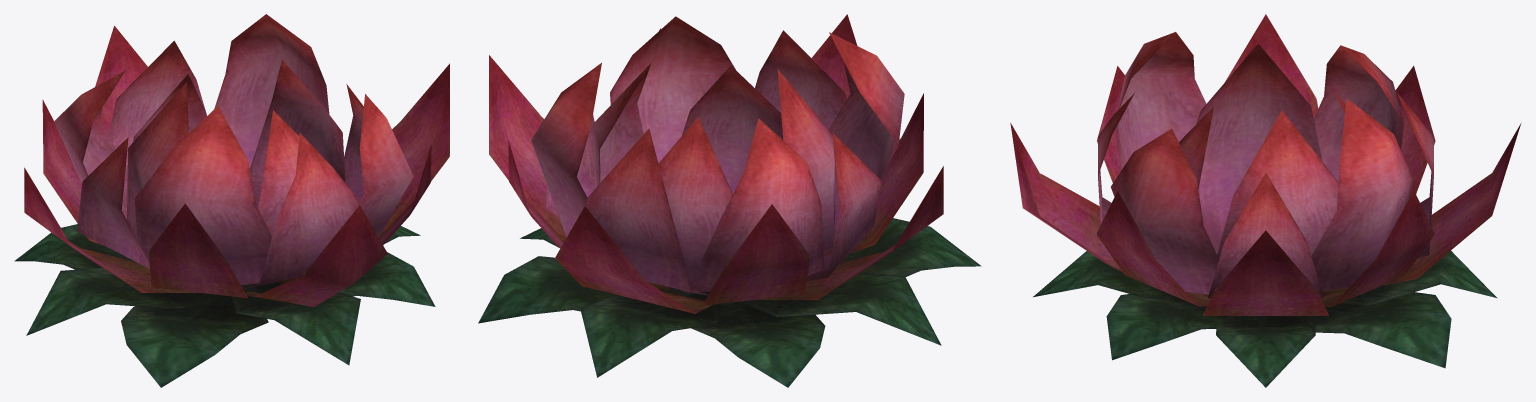
The model's file is environment_Tree_hehuadeng_001_a.FBX.
3 views of the same model, side by side, from view 1: azimuth 30°, elevation 25°; view 2: azimuth 150°, elevation 25°; view 3: azimuth 270°, elevation 25° (orthographic). The views are drawn at different scales.
Parts seen in each view (by area): view 1: environment_Tree_hehuadeng_001_a; view 2: environment_Tree_hehuadeng_001_a; view 3: environment_Tree_hehuadeng_001_a.
Part boxes in pixels (<box>): environment_Tree_hehuadeng_001_a: <box>14,14,449,387</box>; environment_Tree_hehuadeng_001_a: <box>478,14,981,387</box>; environment_Tree_hehuadeng_001_a: <box>1010,14,1521,387</box>.
Bounding box in the file's own units: 285 × 147 × 285.
1 material, 1 textured.
